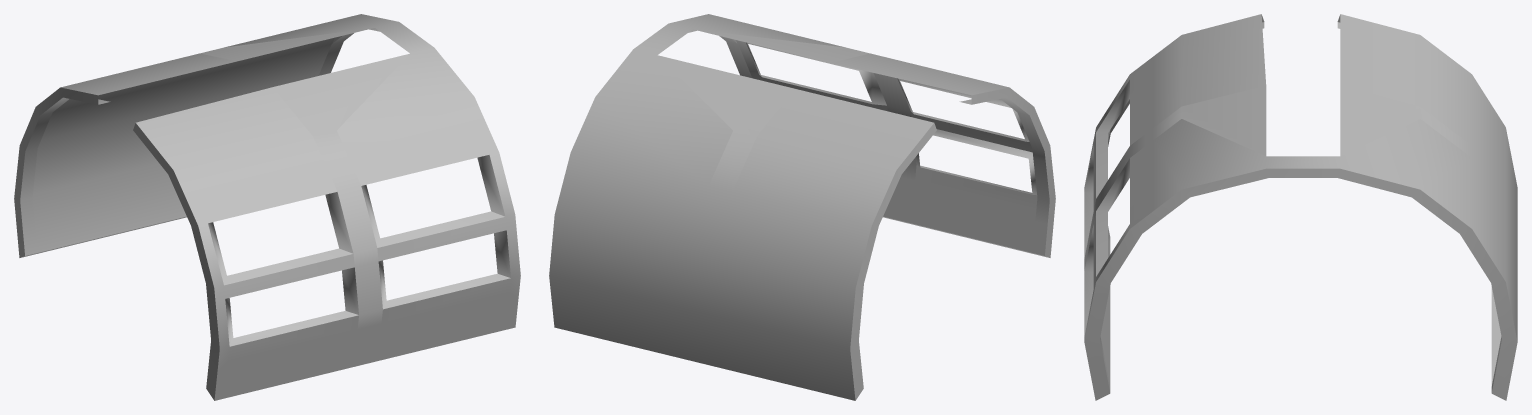
The model's file is KF_SM_TurbineCover.fbx.
3 renders of one model, left to right at view 1: azimuth 30°, elevation 25°; view 2: azimuth 150°, elevation 25°; view 3: azimuth 270°, elevation 25°, orthographic. The views are drawn at different scales.
Parts seen in each view (by area): view 1: KF_SM_TurbineCover; view 2: KF_SM_TurbineCover; view 3: KF_SM_TurbineCover.
Boxes of the visible parts, x1,y1,x2,y2 form: KF_SM_TurbineCover: [14, 14, 520, 400]; KF_SM_TurbineCover: [549, 14, 1055, 400]; KF_SM_TurbineCover: [1084, 14, 1517, 400].
Size of the model in its own units: 615 by 427 by 722.
